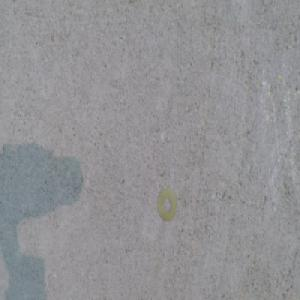Washer: (156, 190, 177, 223)
